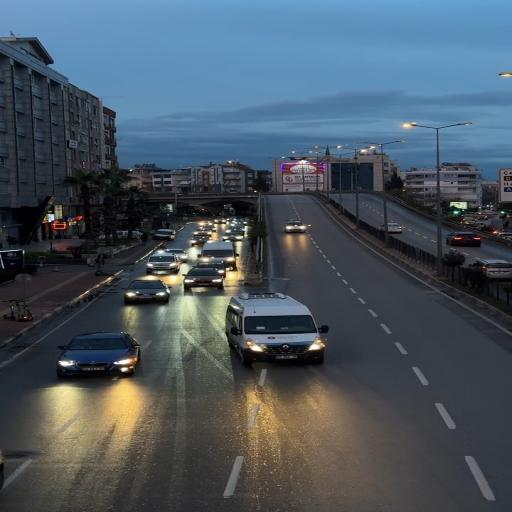car: (221, 285, 337, 378), (70, 333, 170, 398), (437, 213, 512, 249), (118, 274, 184, 313), (265, 208, 336, 241), (172, 224, 234, 260), (192, 239, 236, 287), (142, 246, 195, 278), (471, 250, 512, 288), (382, 219, 431, 241)
lights: (384, 110, 472, 260), (347, 141, 438, 261), (294, 136, 376, 202)
